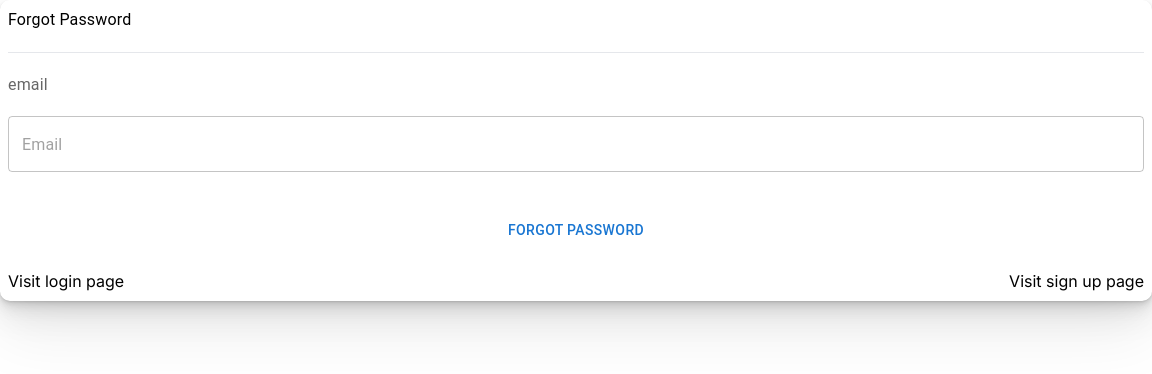
it: forgot password component › should displays validation error for empty email field
Click the button with test id "forgot-password-button". click: click(576, 230)
box: [8,212,1144,248]
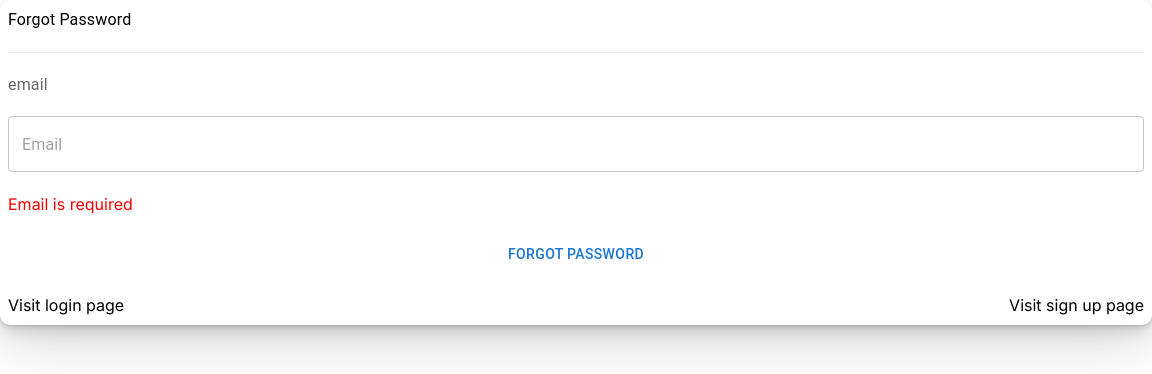
Expected: the text "Email is required" is shown, [8,194,133,214]
